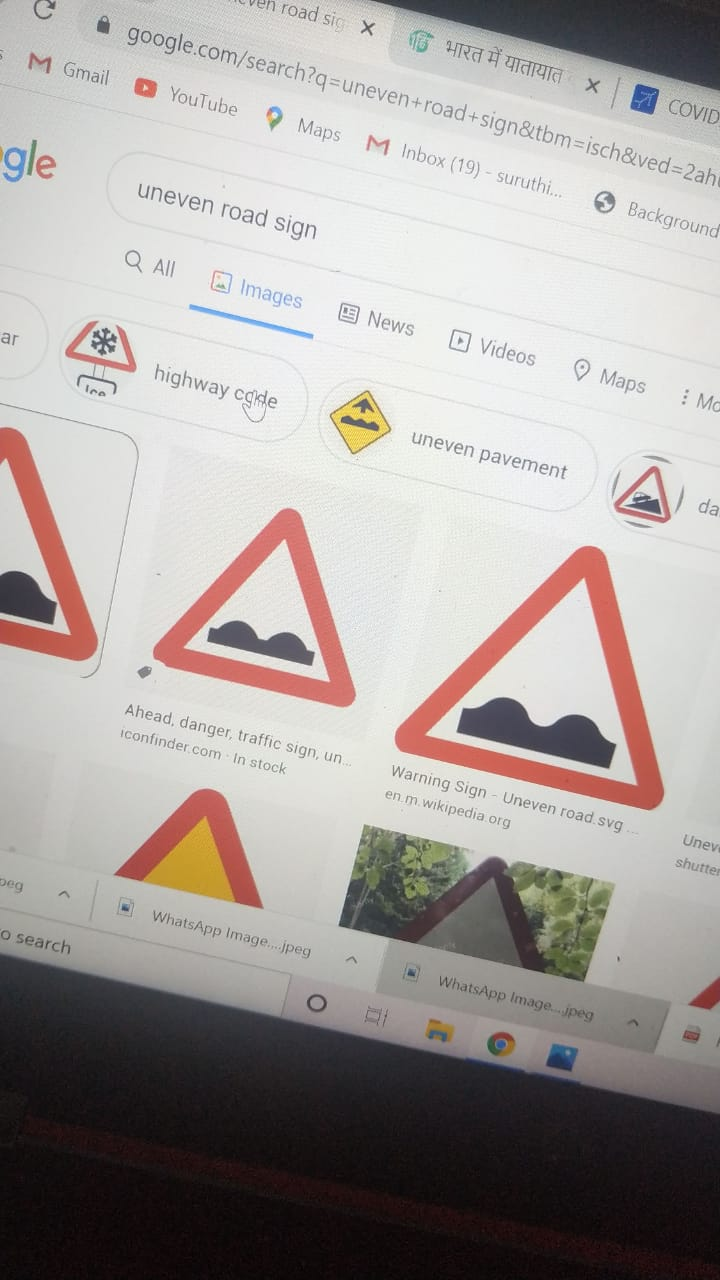UNEVEN ROAD: (387, 480, 674, 811), (148, 446, 378, 721), (1, 408, 113, 675)
